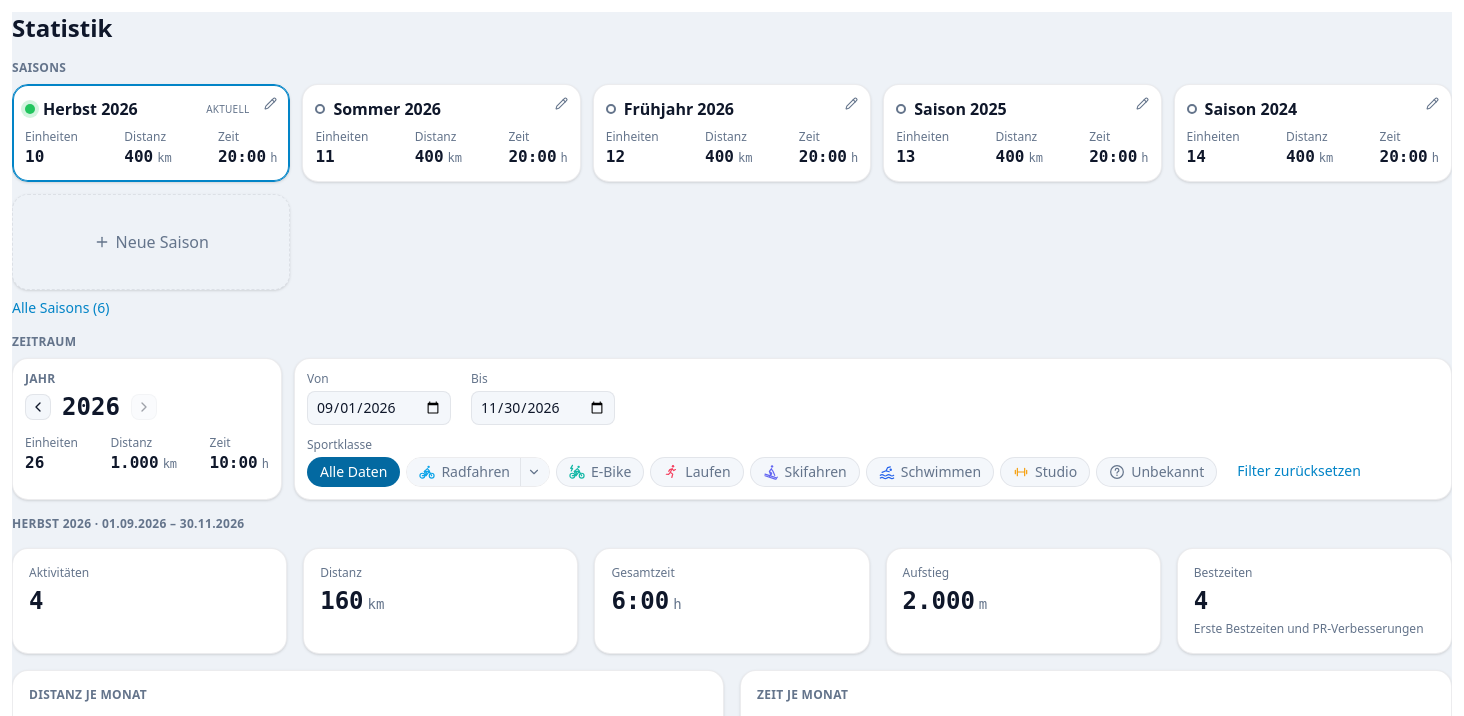
Test: Statistikseite › Vorgabesaison zuerst und gewählt, bis vier weitere, Umschalter für alle
Expected: the number of elements with test id "season-tile" is 5, [12,84,290,182]; [302,84,581,182]; [593,84,871,182]; [883,84,1162,182]; [1174,84,1452,182]
Expected: the text "Herbst 2026" is shown, [43,97,138,121]
What coordinates should you click on to do the following:
click the button "Alle Saisons (6)"
I would click on:
 (61, 308)
Its box is [12,298,110,318].
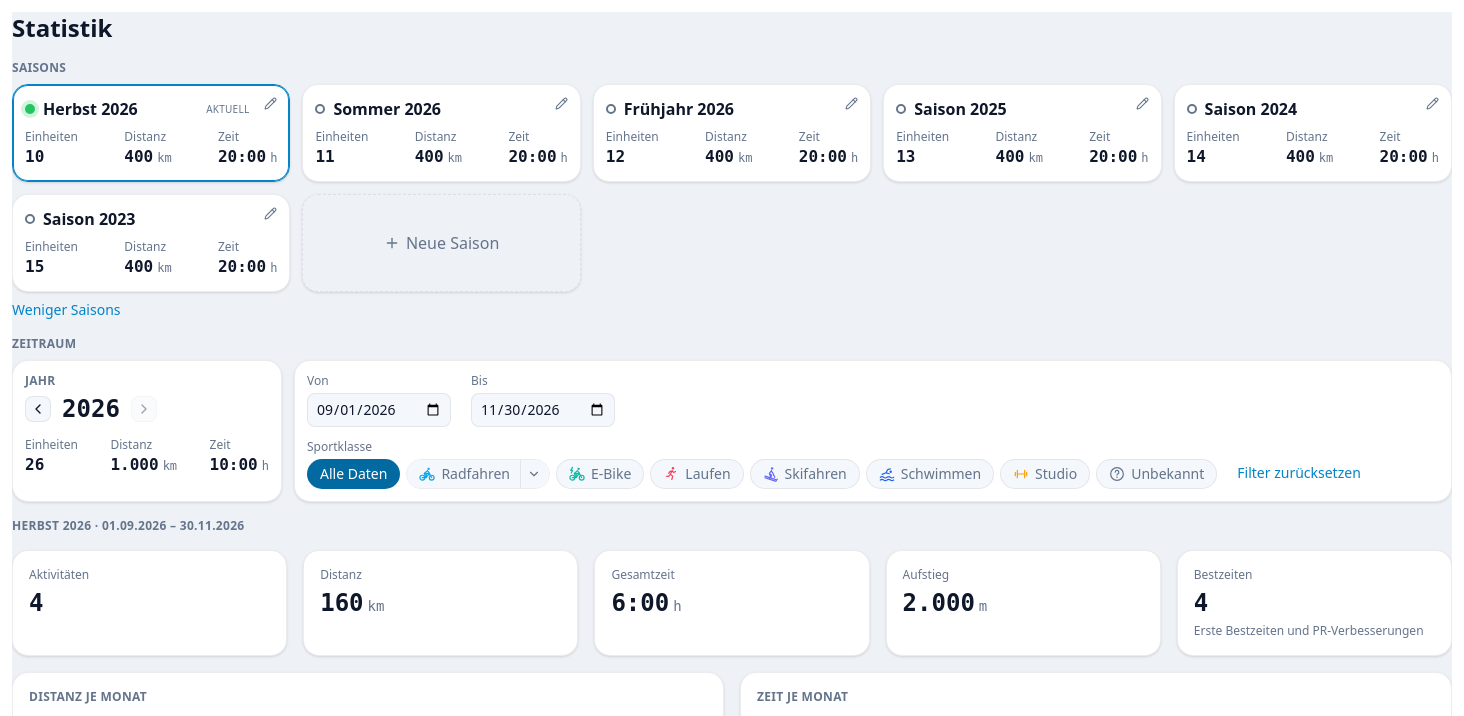
Result: the number of elements with test id "season-tile" is 6 at [12,84,290,182]; [302,84,581,182]; [593,84,871,182]; [883,84,1162,182]; [1174,84,1452,182]; [12,194,290,292]
What coordinates should you click on to do the following:
click the button "Weniger Saisons"
I would click on:
 (66, 310)
Its box is [12,300,120,320].
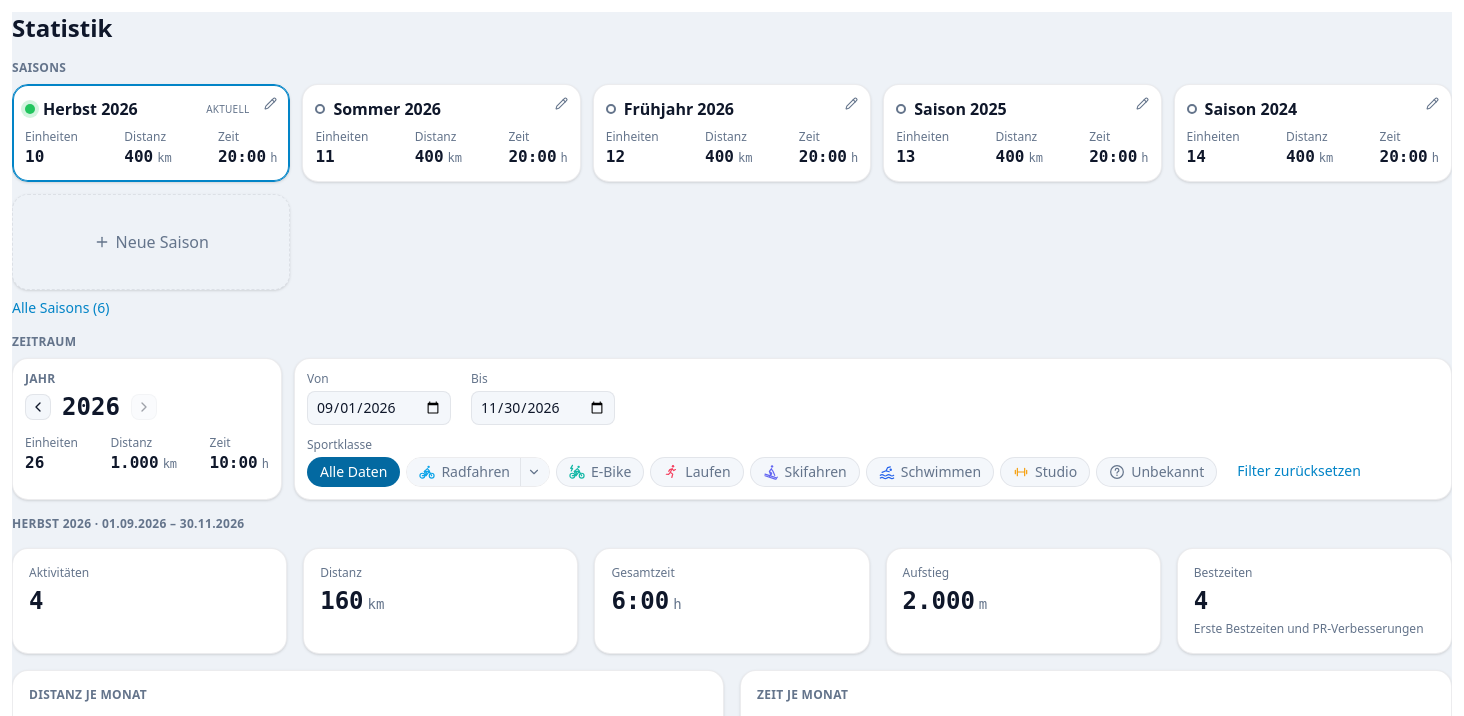
Result: the number of elements with test id "season-tile" is 5 at [12,84,290,182]; [302,84,581,182]; [593,84,871,182]; [883,84,1162,182]; [1174,84,1452,182]
